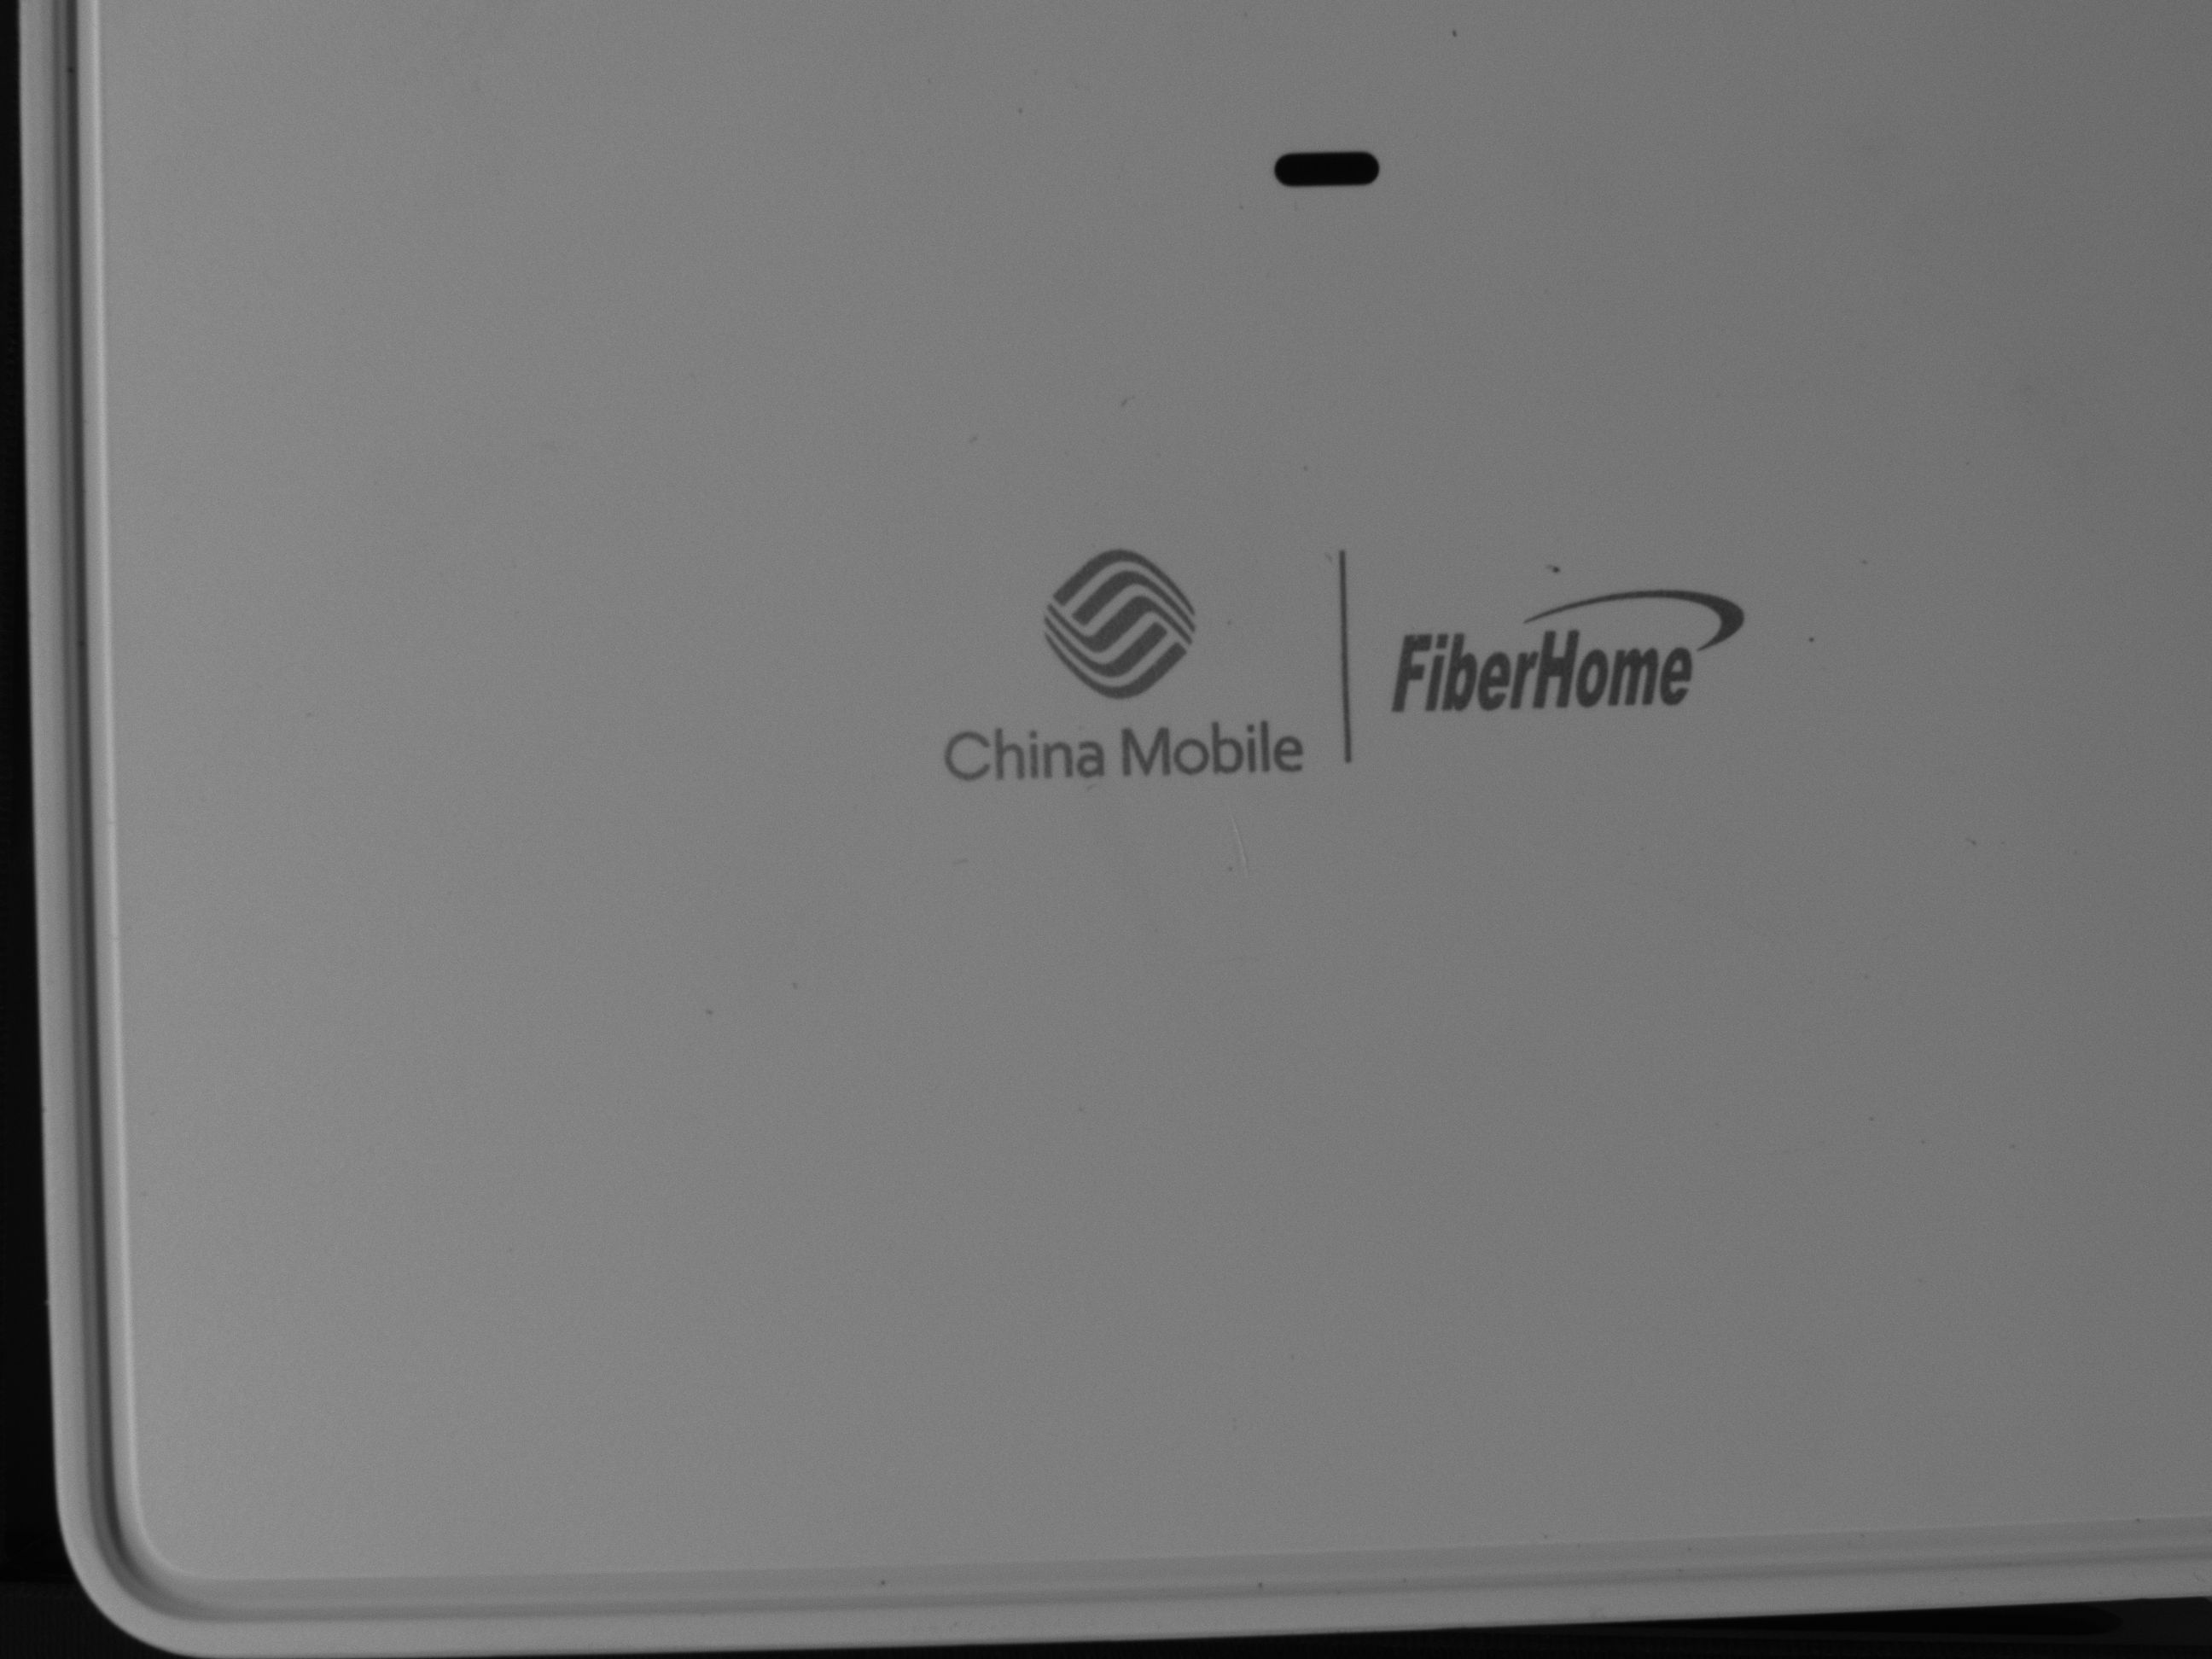BX_HG6371FMobileFiberhome: (925, 505, 1756, 802)
